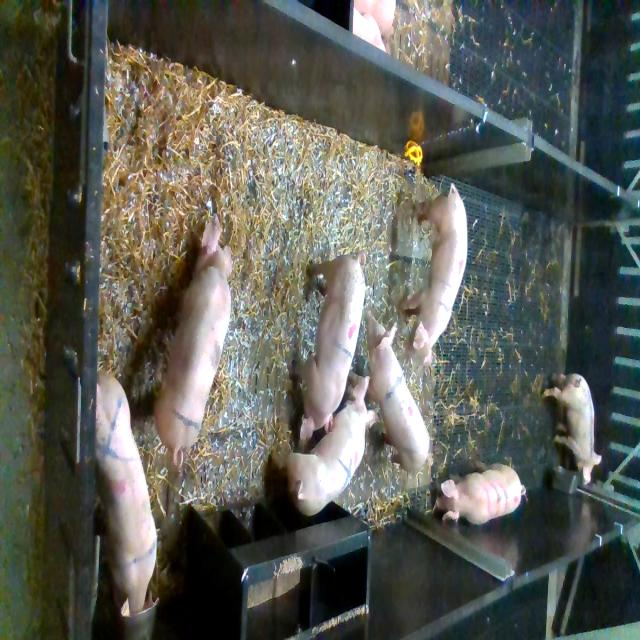pig: (152, 214, 234, 471), (95, 370, 159, 617), (270, 377, 380, 515), (289, 252, 366, 440), (400, 182, 467, 366), (366, 310, 430, 471), (541, 373, 601, 484), (435, 460, 528, 524)
